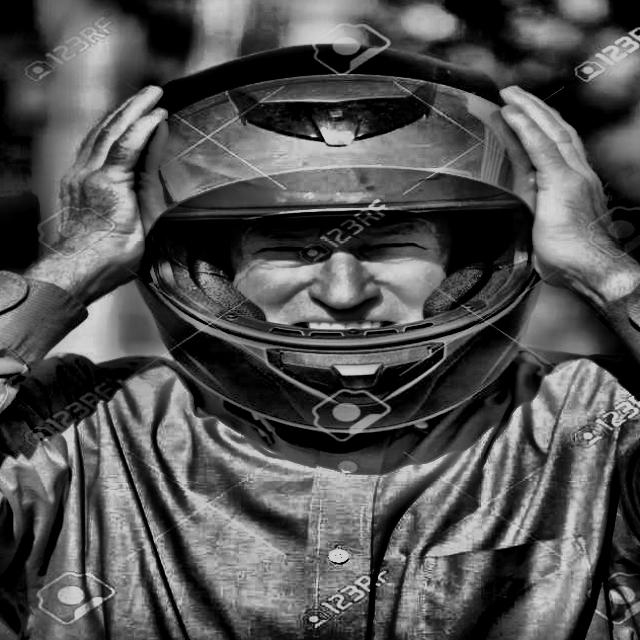Helmet: (108, 36, 571, 446)
